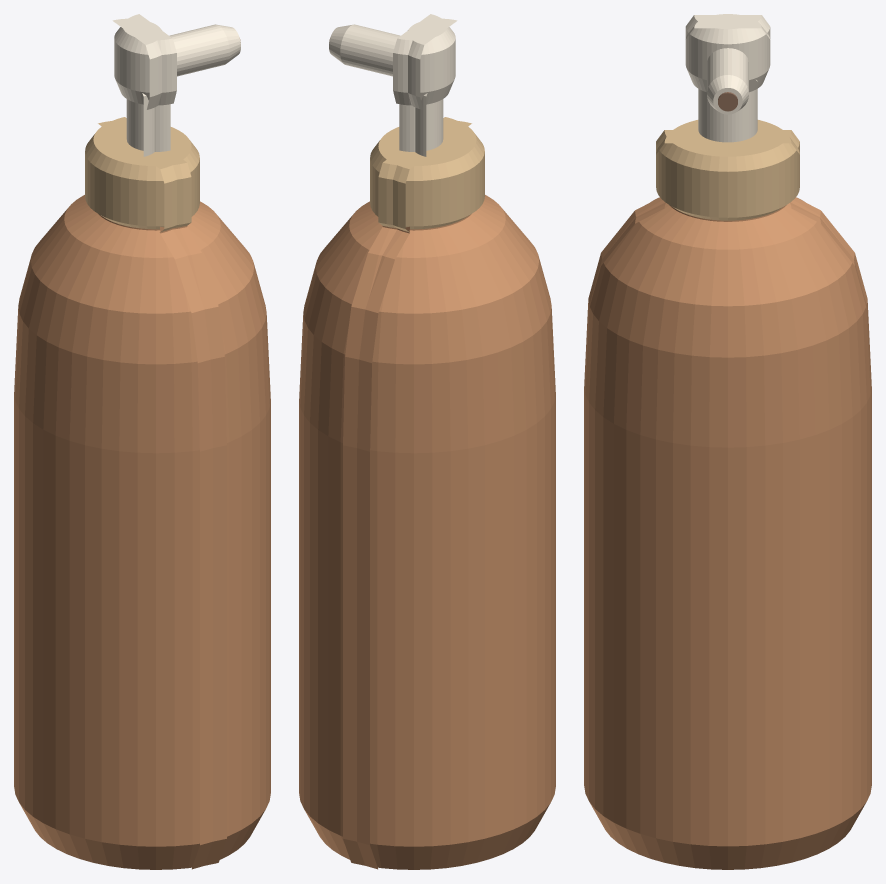
The model's file is bottle-cut.glb.
3 views of the same model, side by side, from view 1: azimuth 30°, elevation 25°; view 2: azimuth 150°, elevation 25°; view 3: azimuth 270°, elevation 25° (orthographic).
Parts seen in each view (by area): view 1: bottle_Cosmetic Pump Bottle_61072c_right, bottle_Cosmetic Pump Bottle_61072c_left, bottle_Cosmetic Pump Bottle_7f40f9_right, bottle_Cosmetic Pump Bottle_815459_right, bottle_Cosmetic Pump Bottle_7f40f9_left, bottle_Cosmetic Pump Bottle_c0ccea_left, bottle_Cosmetic Pump Bottle_b652fb_right, bottle_Cosmetic Pump Bottle_815459_left, bottle_Cosmetic Pump Bottle_b652fb_left; view 2: bottle_Cosmetic Pump Bottle_61072c_right, bottle_Cosmetic Pump Bottle_61072c_left, bottle_Cosmetic Pump Bottle_7f40f9_right, bottle_Cosmetic Pump Bottle_815459_right, bottle_Cosmetic Pump Bottle_7f40f9_left, bottle_Cosmetic Pump Bottle_c0ccea_left, bottle_Cosmetic Pump Bottle_b652fb_right, bottle_Cosmetic Pump Bottle_815459_left, bottle_Cosmetic Pump Bottle_b652fb_left; view 3: bottle_Cosmetic Pump Bottle_61072c_left, bottle_Cosmetic Pump Bottle_7f40f9_left, bottle_Cosmetic Pump Bottle_815459_left, bottle_Cosmetic Pump Bottle_b652fb_left, bottle_Cosmetic Pump Bottle_c0ccea_left, bottle_Cosmetic Pump Bottle_61072c_right, bottle_Cosmetic Pump Bottle_7f40f9_right, bottle_Cosmetic Pump Bottle_815459_right.
Boxes of the visible parts, x1,y1,x2,y2 form: bottle_Cosmetic Pump Bottle_61072c_right: (14, 195, 226, 869); bottle_Cosmetic Pump Bottle_61072c_left: (160, 201, 270, 869); bottle_Cosmetic Pump Bottle_7f40f9_right: (85, 117, 191, 229); bottle_Cosmetic Pump Bottle_815459_right: (114, 14, 176, 105); bottle_Cosmetic Pump Bottle_7f40f9_left: (98, 120, 199, 232); bottle_Cosmetic Pump Bottle_c0ccea_left: (169, 24, 240, 76); bottle_Cosmetic Pump Bottle_b652fb_right: (126, 99, 170, 151); bottle_Cosmetic Pump Bottle_815459_left: (112, 18, 162, 109); bottle_Cosmetic Pump Bottle_b652fb_left: (142, 93, 154, 156); bottle_Cosmetic Pump Bottle_61072c_right: (343, 195, 555, 869); bottle_Cosmetic Pump Bottle_61072c_left: (299, 201, 409, 869); bottle_Cosmetic Pump Bottle_7f40f9_right: (378, 117, 484, 229); bottle_Cosmetic Pump Bottle_815459_right: (393, 14, 455, 105); bottle_Cosmetic Pump Bottle_7f40f9_left: (370, 120, 471, 232); bottle_Cosmetic Pump Bottle_c0ccea_left: (329, 24, 400, 76); bottle_Cosmetic Pump Bottle_b652fb_right: (399, 99, 443, 151); bottle_Cosmetic Pump Bottle_815459_left: (407, 18, 457, 109); bottle_Cosmetic Pump Bottle_b652fb_left: (415, 93, 427, 156); bottle_Cosmetic Pump Bottle_61072c_left: (584, 197, 871, 869); bottle_Cosmetic Pump Bottle_7f40f9_left: (656, 130, 799, 220); bottle_Cosmetic Pump Bottle_815459_left: (685, 15, 770, 92); bottle_Cosmetic Pump Bottle_b652fb_left: (698, 89, 757, 142); bottle_Cosmetic Pump Bottle_c0ccea_left: (707, 48, 748, 114); bottle_Cosmetic Pump Bottle_61072c_right: (588, 197, 867, 309); bottle_Cosmetic Pump Bottle_7f40f9_right: (656, 120, 799, 154); bottle_Cosmetic Pump Bottle_815459_right: (685, 14, 770, 39).
Bounding box in the file's own units: 0.605 × 2.11 × 0.68.
